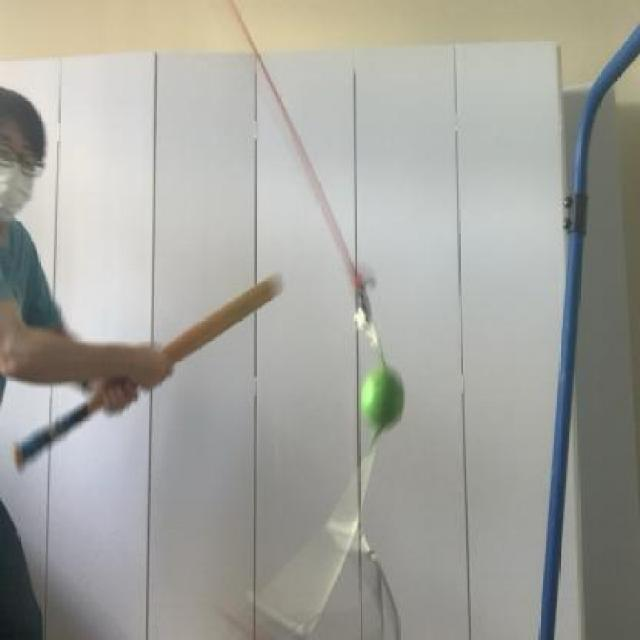baseball: (342, 357, 432, 451)
